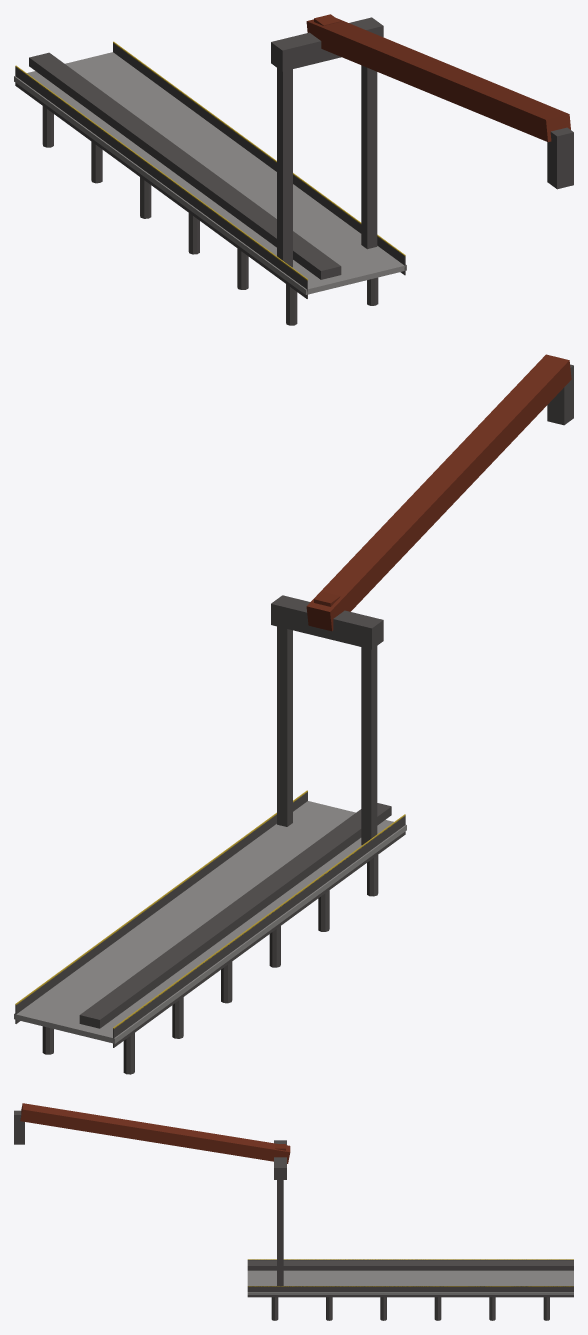
The model's file is B_shiploader.glb.
3 renders of one model, top to bottom at view 1: azimuth 30°, elevation 25°; view 2: azimuth 150°, elevation 25°; view 3: azimuth 270°, elevation 25°, orthographic. The views are drawn at different scales.
Visible parts, largest first — view 1: Cube, Cube.007, Cube.003, MCDCX_h.001, Cube.004, Cube.005, MCDCX_h.002, Cube.006, Cube.008, Cube.001, Cube.002, Cylinder (+5 smaller); view 2: Cube, Cube.007, Cube.003, MCDCX_h.001, Cube.004, Cube.005, Cube.006, MCDCX_h.002, Cube.008; view 3: Cube, Cube.007, Cube.003, MCDCX_h.002, Cube.005, MCDCX_h.001, Cube.006, Cube.008, Cube.002, Cube.001.
Boxes of the visible parts, x1=… form: Cube: x1=14, y1=52, x2=406, y2=294; Cube.007: x1=306, y1=18, x2=570, y2=141; Cube.003: x1=29, y1=52, x2=341, y2=279; MCDCX_h.001: x1=15, y1=67, x2=307, y2=298; Cube.004: x1=277, y1=68, x2=292, y2=267; Cube.005: x1=361, y1=65, x2=377, y2=249; MCDCX_h.002: x1=113, y1=43, x2=405, y2=275; Cube.006: x1=271, y1=17, x2=383, y2=71; Cube.008: x1=547, y1=127, x2=573, y2=189; Cube.001: x1=15, y1=65, x2=307, y2=280; Cube.002: x1=113, y1=41, x2=405, y2=256; Cylinder: x1=42, y1=106, x2=53, y2=147; Cube: x1=14, y1=801, x2=406, y2=1043; Cube.007: x1=306, y1=354, x2=571, y2=631; Cube.003: x1=79, y1=803, x2=391, y2=1028; MCDCX_h.001: x1=113, y1=815, x2=405, y2=1047; Cube.004: x1=361, y1=646, x2=377, y2=845; Cube.005: x1=277, y1=626, x2=292, y2=826; Cube.006: x1=271, y1=595, x2=383, y2=649; MCDCX_h.002: x1=15, y1=792, x2=307, y2=1023; Cube.008: x1=547, y1=364, x2=573, y2=425; Cube: x1=247, y1=1270, x2=573, y2=1294; Cube.007: x1=20, y1=1103, x2=290, y2=1163; Cube.003: x1=247, y1=1260, x2=573, y2=1270; MCDCX_h.002: x1=247, y1=1286, x2=573, y2=1297; Cube.005: x1=277, y1=1180, x2=283, y2=1285; MCDCX_h.001: x1=248, y1=1259, x2=573, y2=1260; Cube.006: x1=274, y1=1140, x2=286, y2=1179; Cube.008: x1=14, y1=1110, x2=24, y2=1144; Cube.002: x1=248, y1=1286, x2=573, y2=1286; Cube.001: x1=247, y1=1259, x2=573, y2=1259.
Size of the model in its own units: 6 by 20.51 by 51.5.
